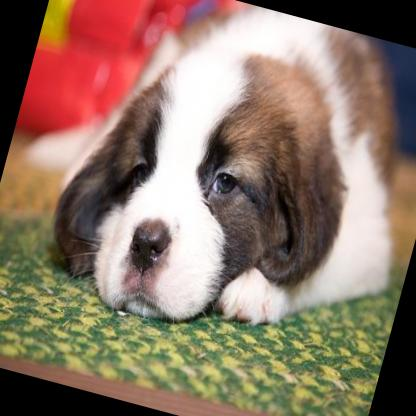Saint_Bernard: (0, 0, 416, 381)
